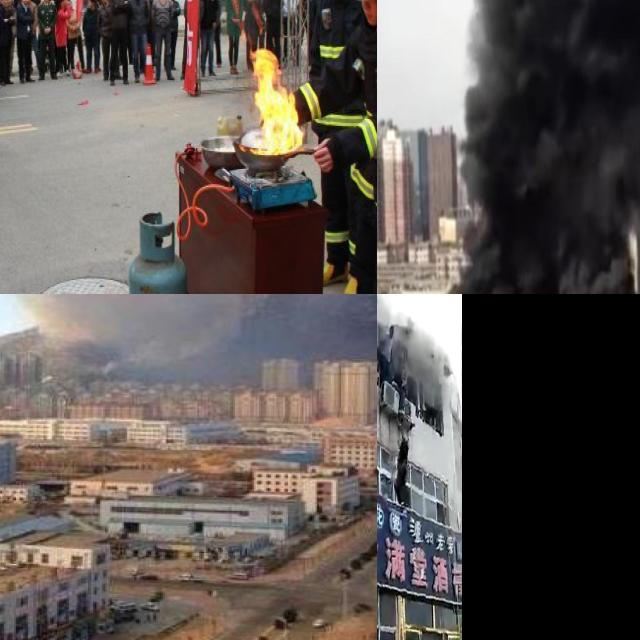fire: (246, 44, 301, 155)
smoke: (429, 0, 640, 294), (0, 294, 377, 383), (403, 323, 450, 402), (377, 294, 395, 334)
